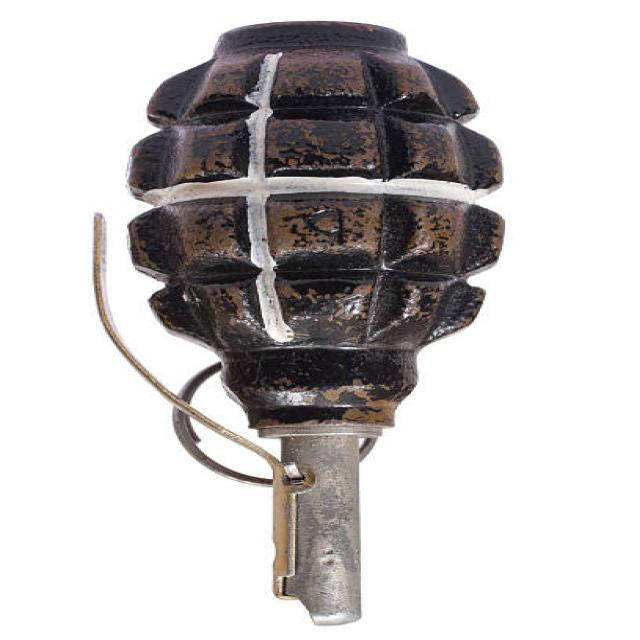grenade: (62, 17, 523, 637)
